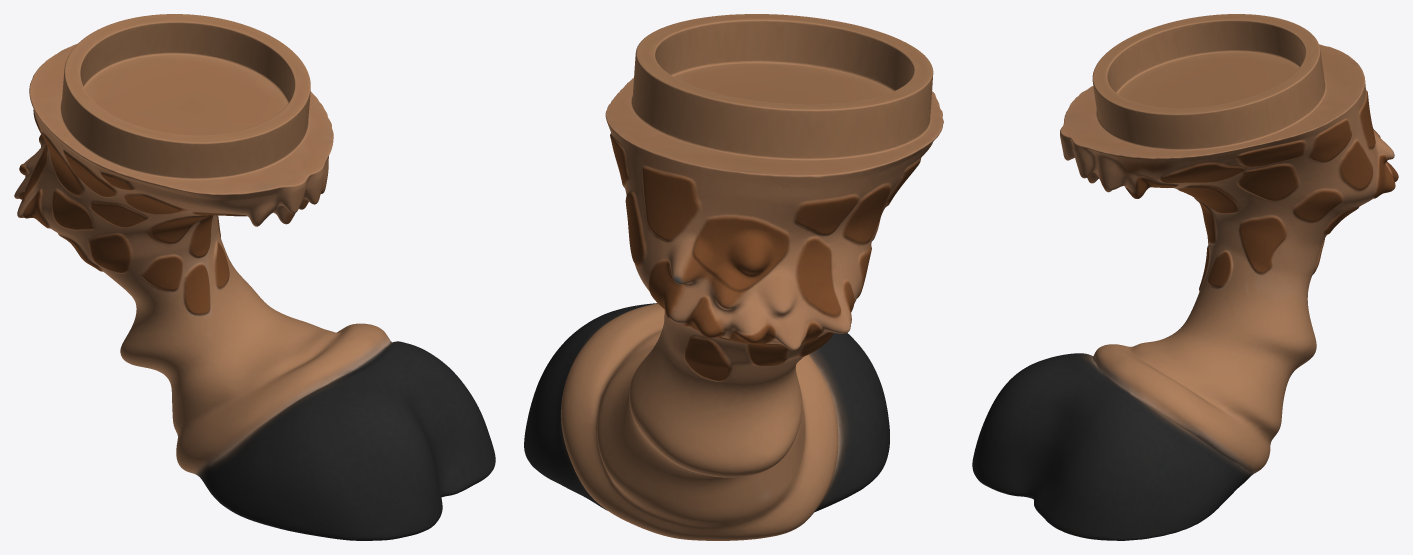
The model's file is Patte_Girafe_lft.glb.
3 renders of one model, left to right at view 1: azimuth 30°, elevation 25°; view 2: azimuth 150°, elevation 25°; view 3: azimuth 270°, elevation 25°, orthographic. The views are drawn at different scales.
Parts seen in each view (by area): view 1: Patte_Girafe_lft; view 2: Patte_Girafe_lft; view 3: Patte_Girafe_lft.
Boxes of the visible parts, <box> form: Patte_Girafe_lft: <box>14,14,495,540</box>; Patte_Girafe_lft: <box>524,14,943,540</box>; Patte_Girafe_lft: <box>972,14,1398,540</box>.
Bounding box in the file's own units: 2.14 × 2.26 × 2.3.
